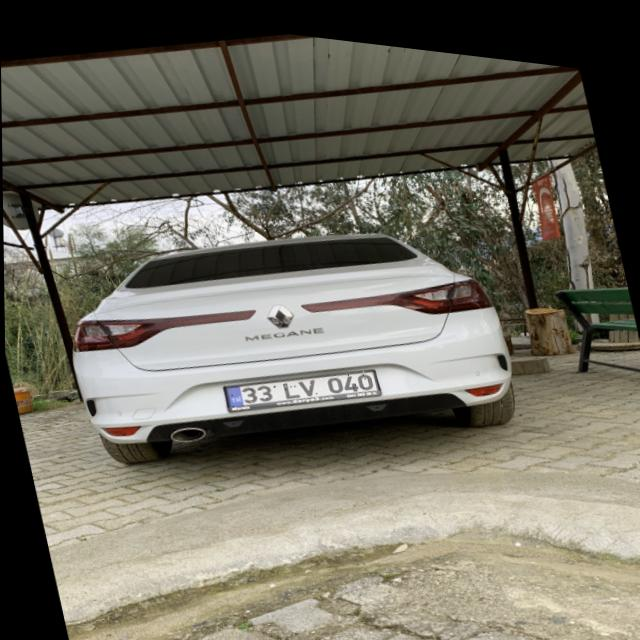license_plate: (223, 346, 380, 416)
